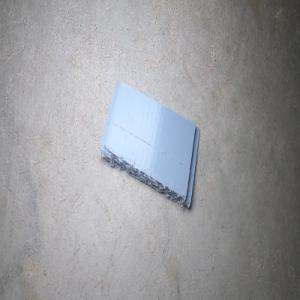PlasticPart: (97, 79, 200, 208)
